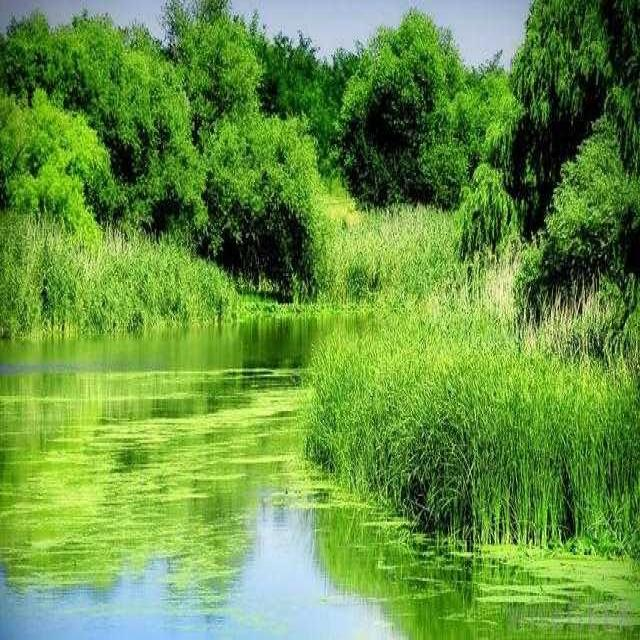Ponds: (6, 312, 636, 636)
